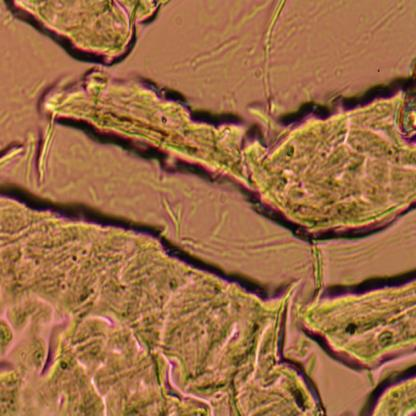Normal: (0, 53, 416, 233), (0, 266, 413, 416)
